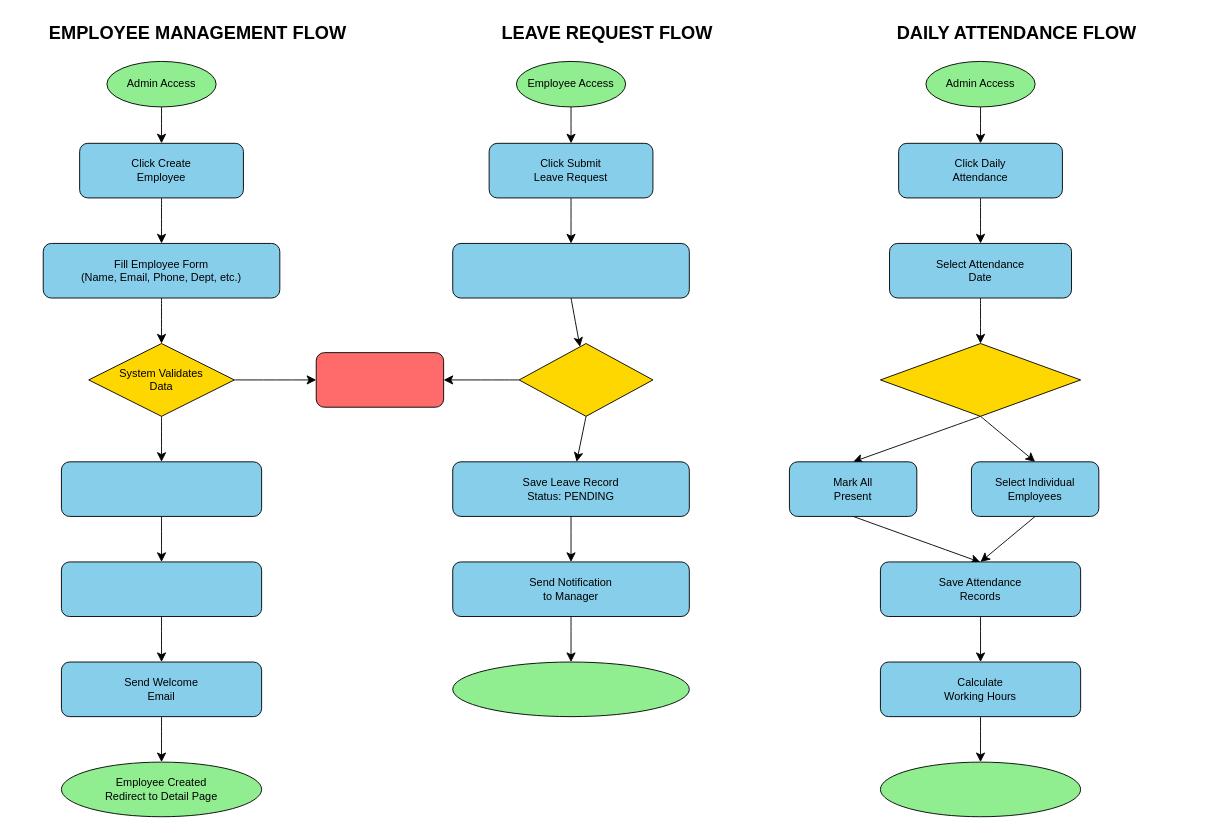
The diagram is 1214 pixels wide and 833 high, and some of its shapes have lost their labels. Each missing label, with the box of its shape:
Attendance Recorded Successfully: (880, 761, 1081, 817)
Choose Mark Option: (880, 343, 1081, 416)
Create Django User Account: (61, 461, 262, 516)
Fill Form (Start Date, End Date, Reason): (452, 243, 689, 298)
Request Submitted Waiting for Approval: (452, 661, 689, 717)
Save Employee & User Records: (61, 561, 262, 617)
Show Error Message: (315, 352, 444, 407)
Validate Dates: (518, 343, 653, 416)
